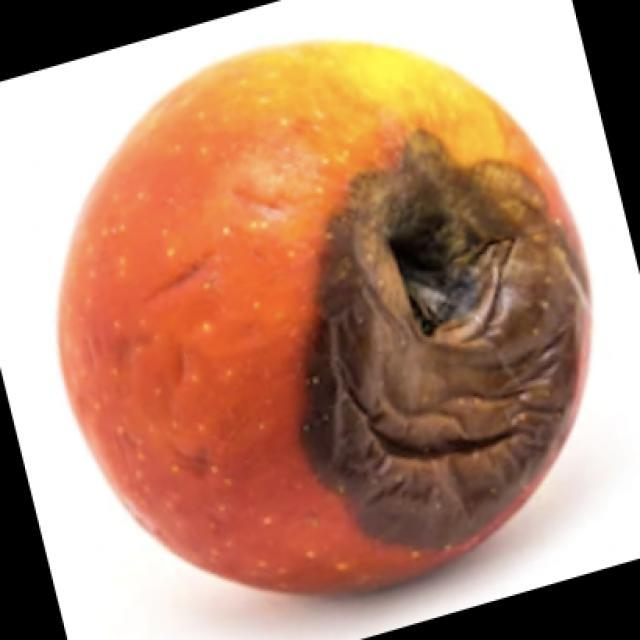Rotten: (73, 48, 590, 582)
